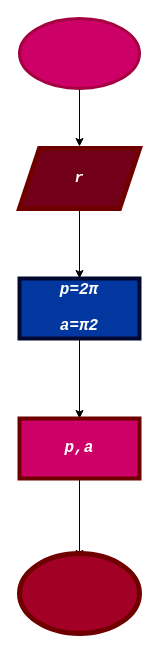
The diagram is 159 pixels wide and 653 high, and some of its shapes have lost their labels. The shapes that lost their labels are listed below. From the top down, each one's centre as x and y in pixels, then its label:
(79,53): INICIO
(79,593): FIN
